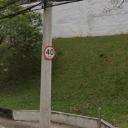speed_limit_40: (44, 46, 56, 60)
